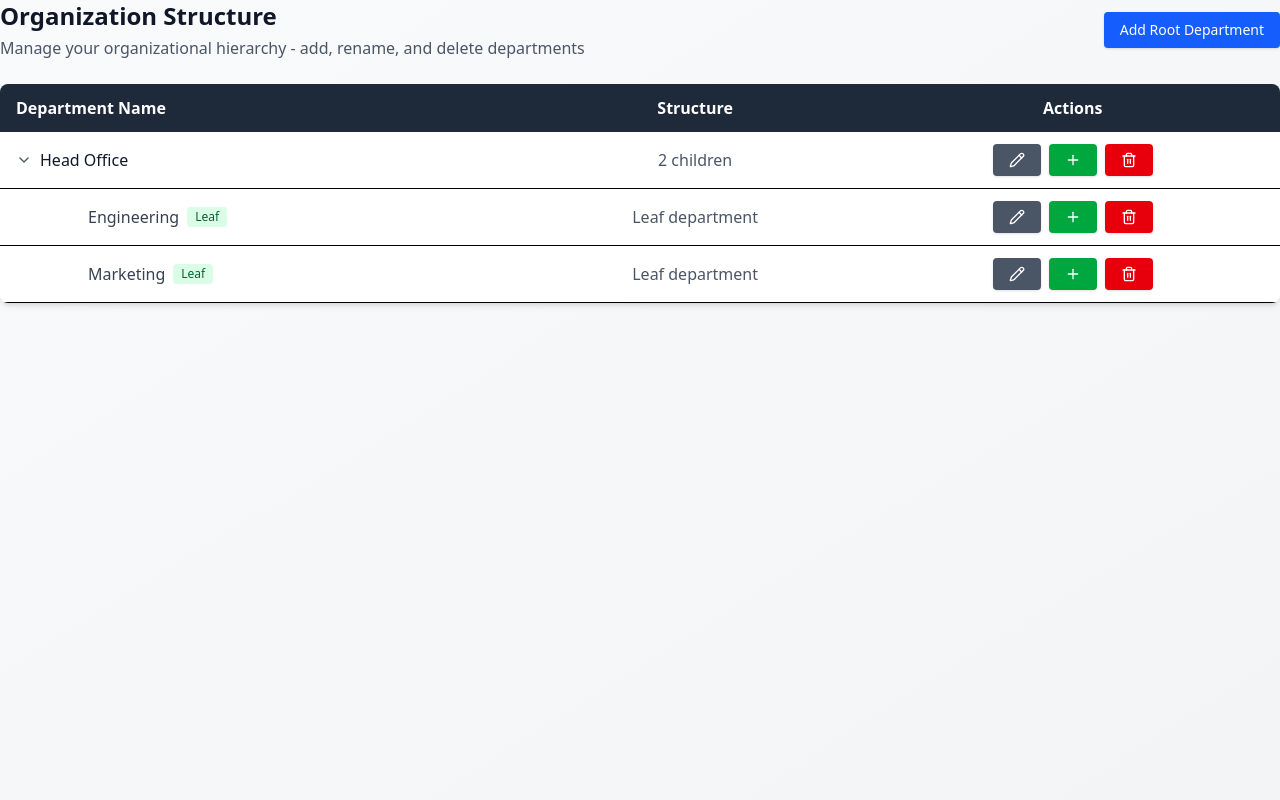
Test: OrganizationStructure Integration › Delete Department › should require typed confirmation for parent departments
Expected: the text "Head Office" is shown, 40,148 -> 128,172
Click the button titled "Delete Department" in the row of "Head Office": (1129, 160) 1105,144 -> 1153,176
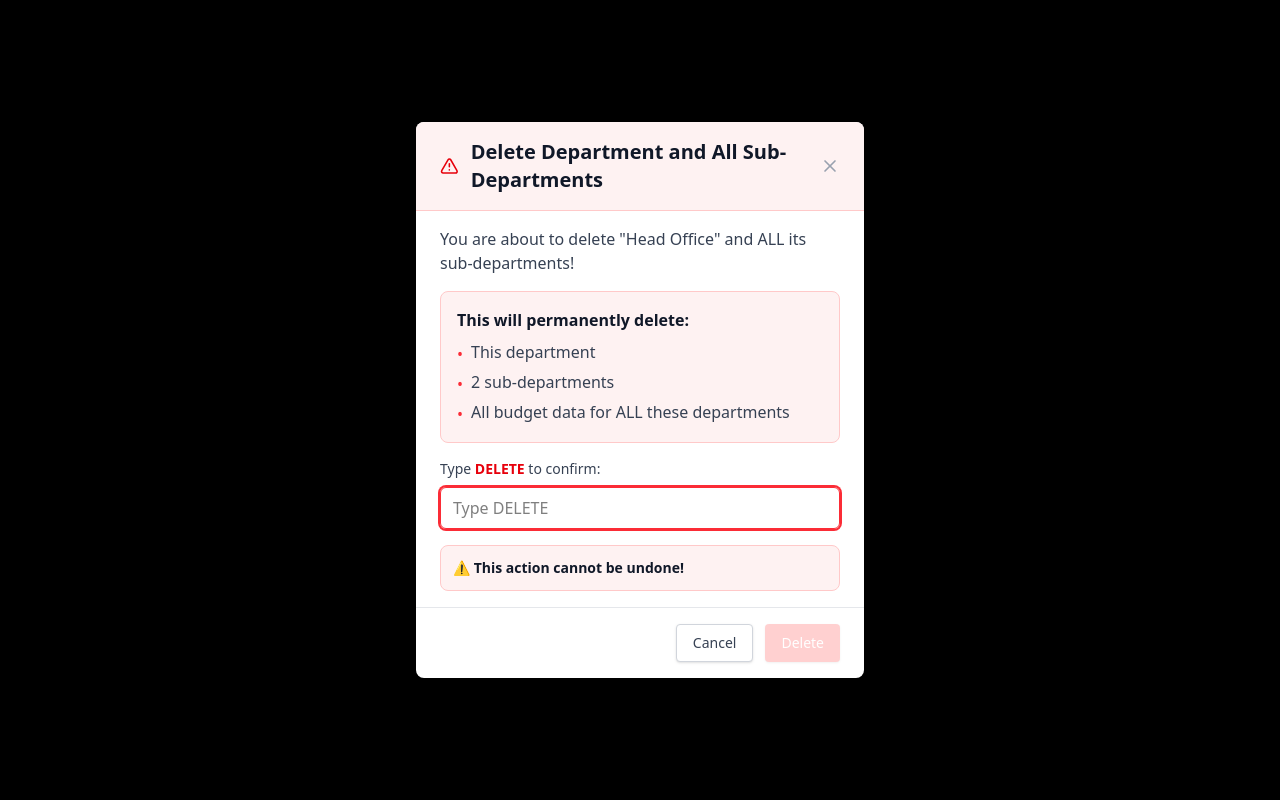
Expected: the heading "Delete Department and All Sub-Departments" is shown, 471,138 -> 820,194
Expected: the field with placeholder "Type DELETE" is shown, 440,487 -> 840,529
Expected: the text "2 sub-departments" is shown, 471,370 -> 614,394
